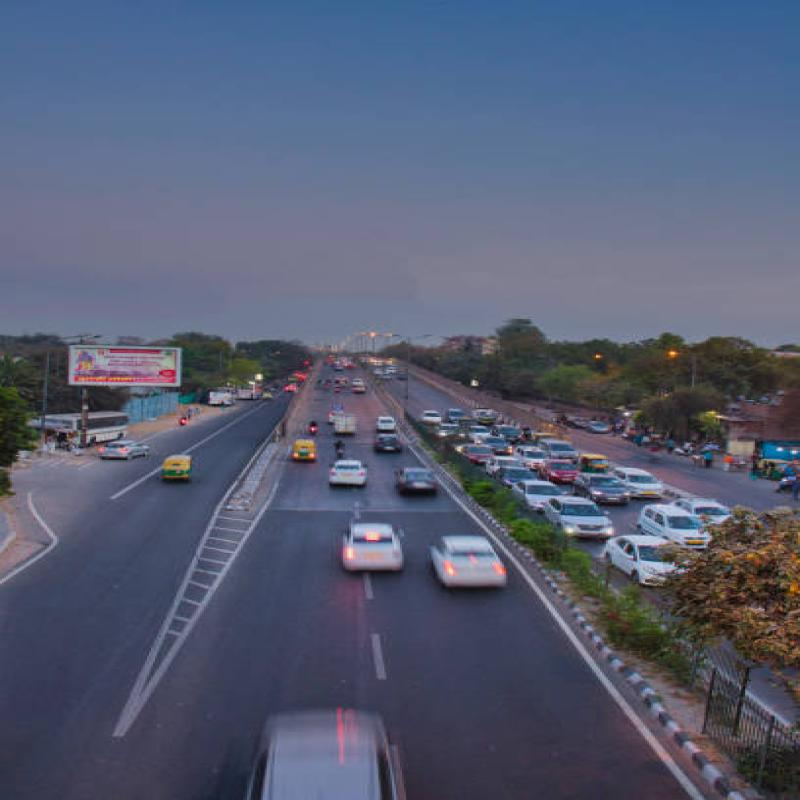car: (422, 528, 514, 586), (321, 519, 410, 577), (524, 491, 621, 541)
